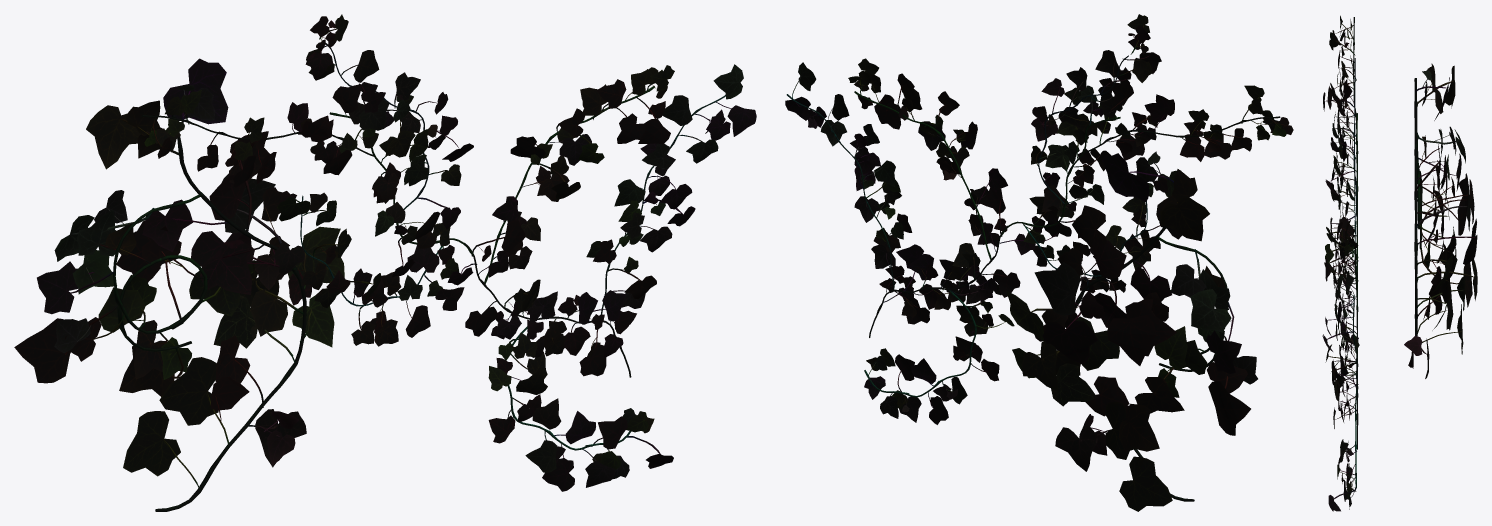
File: vine1.glb
3 renders of one model, left to right at view 1: azimuth 30°, elevation 25°; view 2: azimuth 150°, elevation 25°; view 3: azimuth 270°, elevation 25°, orthographic. The views are drawn at different scales.
Visible parts, largest first — view 1: _epun_VarA_LOD1, _4jaq_VarF_LOD1; view 2: _epun_VarA_LOD1, _4jaq_VarF_LOD1; view 3: _epun_VarA_LOD1, _4jaq_VarF_LOD1.
Boxes of the visible parts, bbox=[...] form: _epun_VarA_LOD1: bbox=[142, 14, 756, 491]; _4jaq_VarF_LOD1: bbox=[14, 58, 344, 511]; _epun_VarA_LOD1: bbox=[785, 14, 1293, 424]; _4jaq_VarF_LOD1: bbox=[1006, 151, 1257, 511]; _epun_VarA_LOD1: bbox=[1322, 15, 1359, 511]; _4jaq_VarF_LOD1: bbox=[1404, 63, 1477, 378].
Bounding box in the file's own units: 0.9464 × 0.7569 × 0.2812.
Materials: 1 (1 with a texture image).
